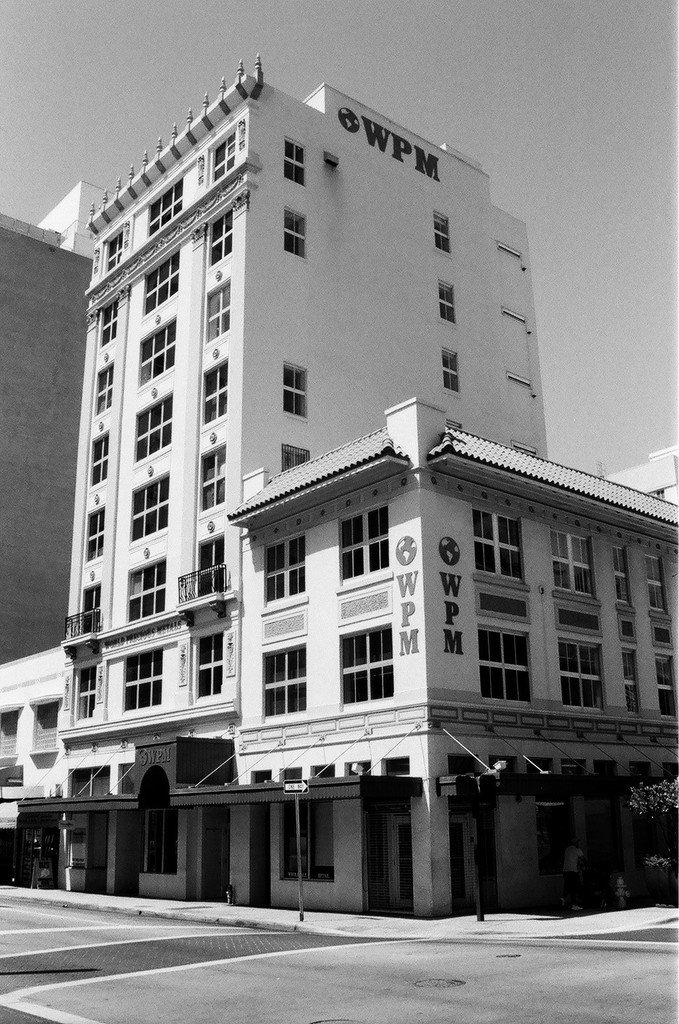Window: (0, 114, 678, 897), (343, 622, 400, 720)
